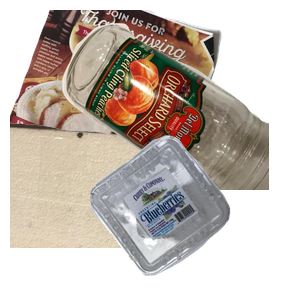glass: (60, 21, 300, 201)
paper: (10, 10, 224, 190)
plastic: (88, 133, 300, 300)
trash: (10, 120, 207, 300)
